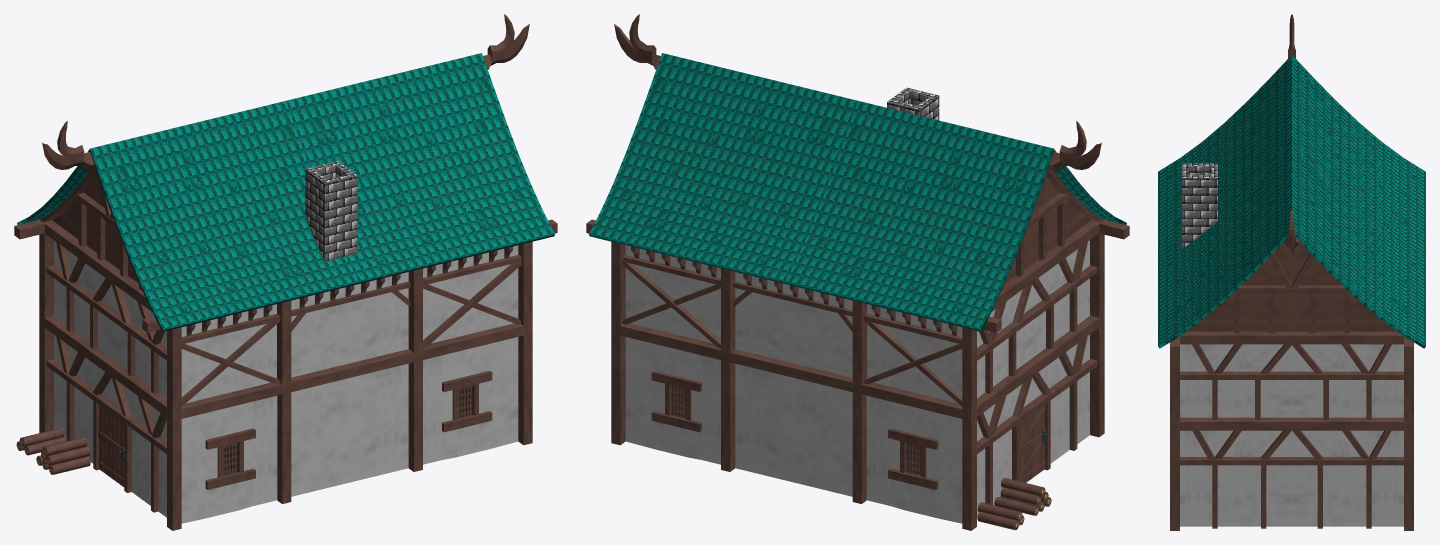
Rendered from maison7.glb.
3 renders of one model, left to right at view 1: azimuth 30°, elevation 25°; view 2: azimuth 150°, elevation 25°; view 3: azimuth 270°, elevation 25°, orthographic. The views are drawn at different scales.
Parts seen in each view (by area): view 1: Simple1; view 2: Simple1; view 3: Simple1.
Boxes of the visible parts, <box> form: Simple1: <box>14,14,557,530</box>; Simple1: <box>586,14,1129,530</box>; Simple1: <box>1158,14,1425,530</box>.
Size of the model in its own units: 6.67 by 4.86 by 3.47.
1 material, 1 textured.
